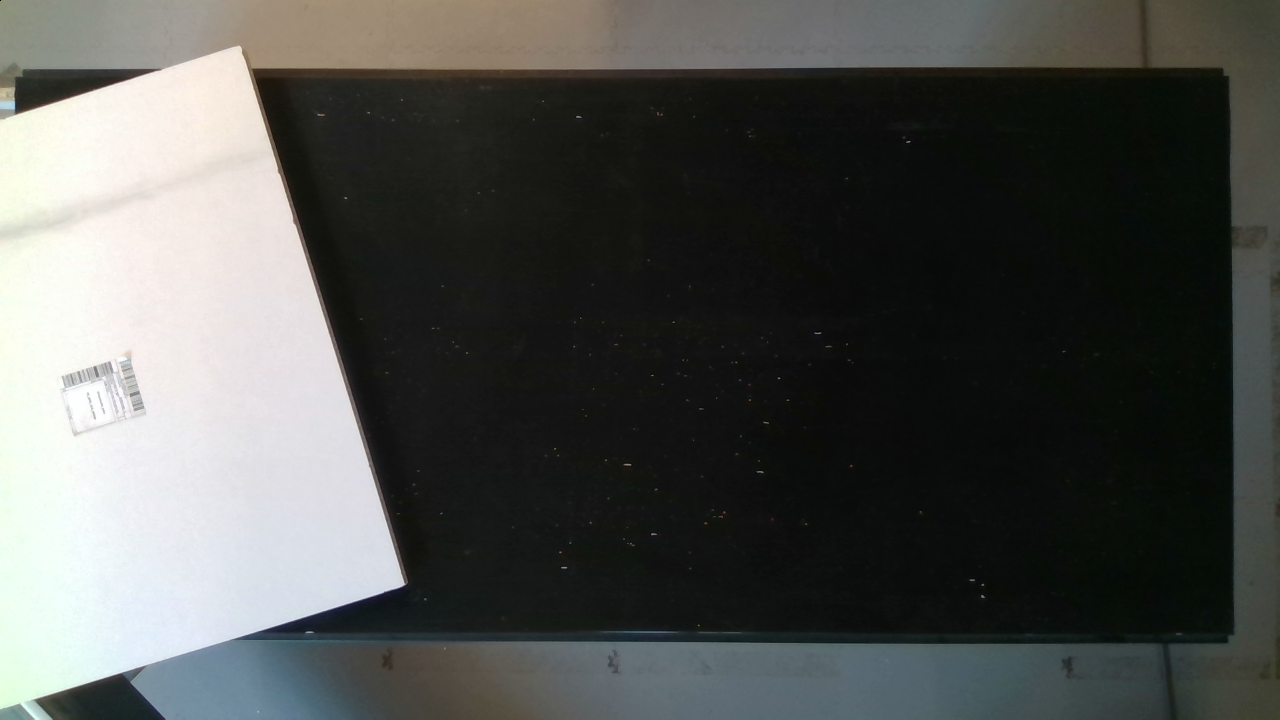barcode: (55, 353, 154, 445)
